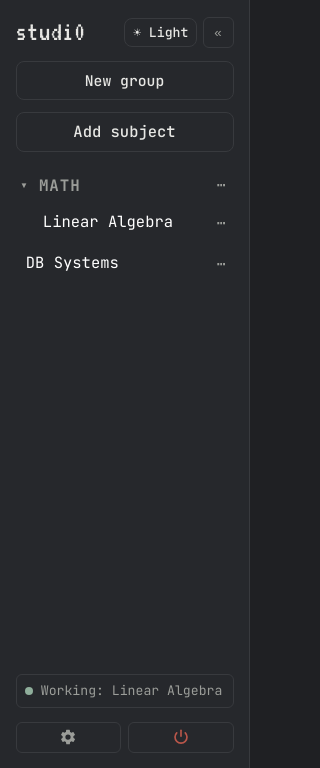
Scenario: Sidebar agent status › treats an in-flight chat turn (activity row, no task) as working
The width and height of the screenshot is (320, 768).
Click the button "Working: Linear Algebra": (124, 691) [16,674,234,708]
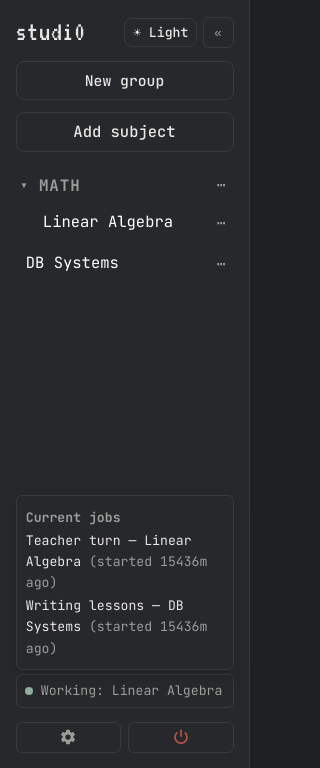
Expected: the text "Teacher turn — Linear Algebra (started 15436m ago)" is shown, [26,530,223,593]
Expected: the text "Writing lessons — DB Systems (started 15436m ago)" is shown, [26,595,223,659]
